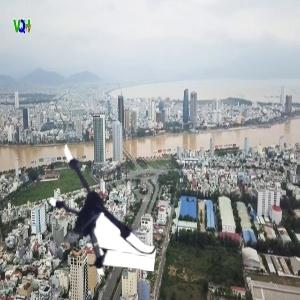drone: (29, 143, 162, 276)
